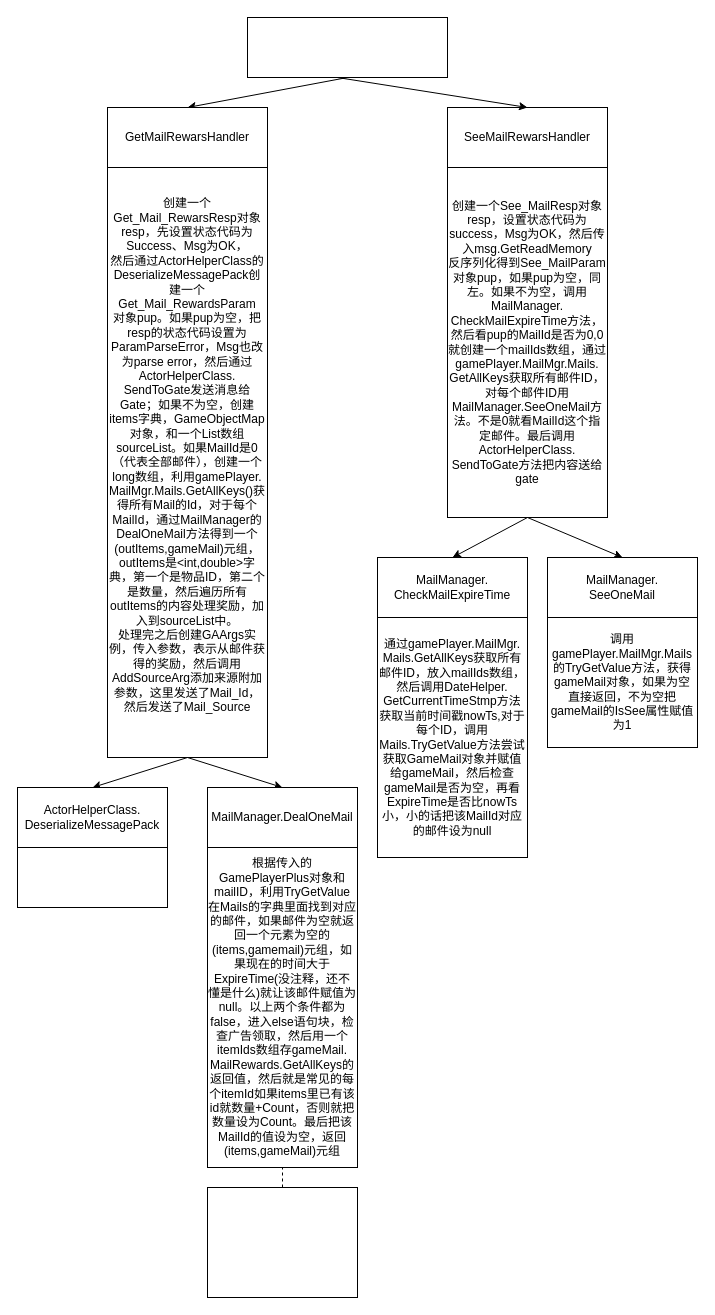
This 715x1315 diagram has some shape labels left out. Here are the shapes that lost their labels. From the top down, the box of each, then its label:
(246, 16, 448, 78): SceneServerComponnentSystem. _client_handle
(16, 846, 168, 908): 反序列化msg.GetReadMemory()
(206, 1186, 358, 1298): GameObject的_props在哪里初始化的 解决：AddProps方法加进去的，在GameMail类的构造函数调用了InitProp方法，把属性都加进去了
